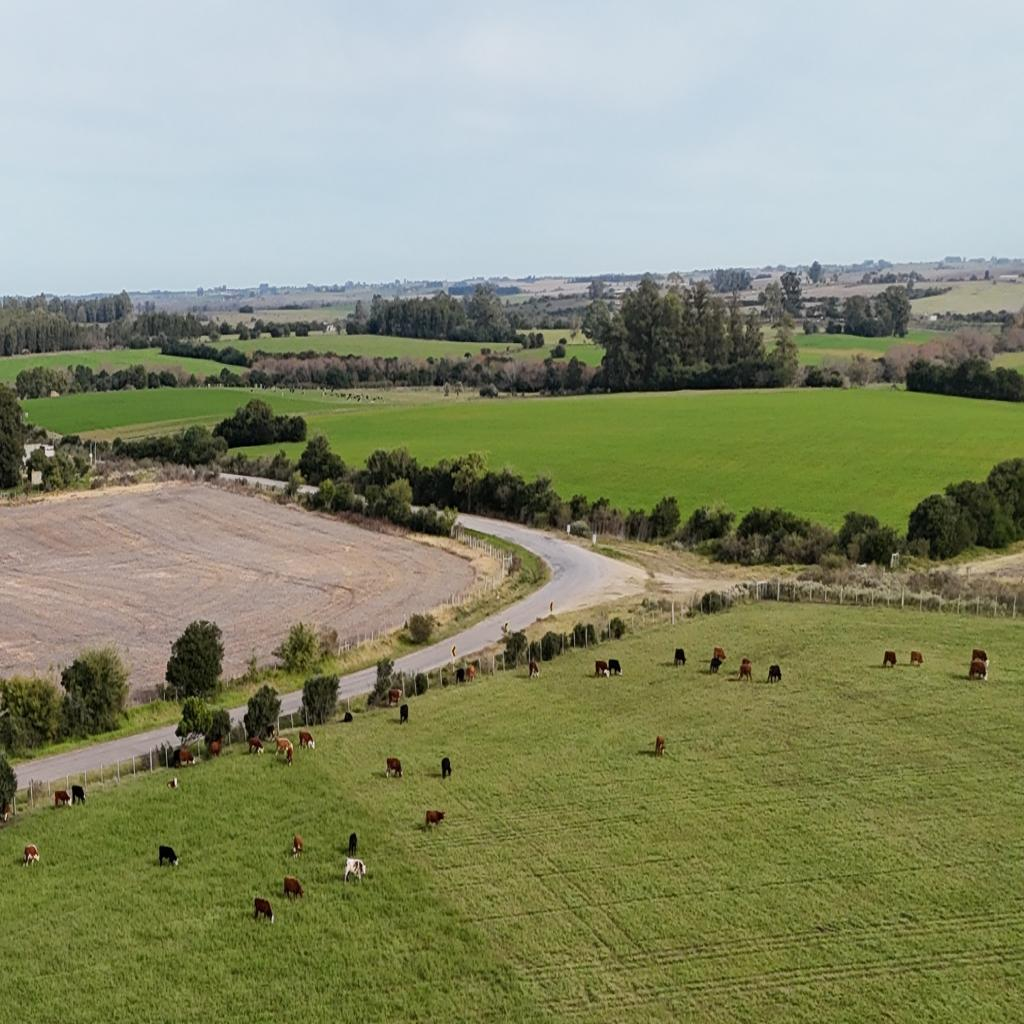cow: (283, 876, 304, 902), (254, 896, 273, 924), (343, 858, 365, 882), (158, 844, 179, 868), (275, 738, 293, 765), (424, 810, 446, 832), (22, 845, 40, 868), (178, 748, 196, 768), (969, 660, 987, 680), (298, 730, 316, 750), (386, 757, 402, 779), (71, 785, 87, 806), (292, 834, 304, 861), (248, 736, 264, 755), (54, 789, 70, 808), (767, 664, 782, 684), (739, 659, 752, 681), (882, 650, 897, 668), (208, 740, 222, 759), (972, 648, 988, 664), (388, 689, 402, 707), (710, 656, 722, 676), (348, 832, 358, 856), (595, 660, 608, 678), (608, 658, 621, 676), (441, 757, 451, 780), (674, 648, 686, 667), (655, 735, 665, 757), (1, 802, 11, 822), (713, 646, 727, 660), (910, 651, 923, 666), (529, 660, 539, 678), (465, 666, 475, 682), (455, 668, 465, 684), (400, 704, 408, 724), (266, 724, 276, 740), (167, 776, 179, 788), (343, 712, 353, 722), (742, 657, 750, 665)
